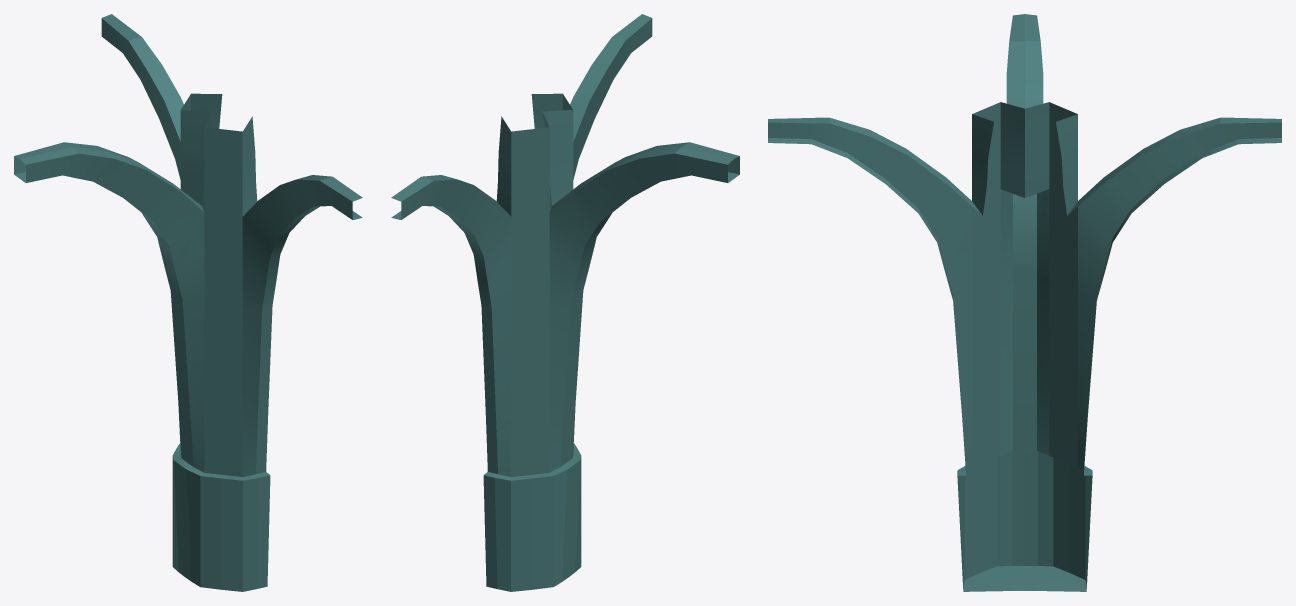
File: Arch_Tri_AgainstWall.fbx
3 views of the same model, side by side, from view 1: azimuth 30°, elevation 25°; view 2: azimuth 150°, elevation 25°; view 3: azimuth 270°, elevation 25° (orthographic). The views are drawn at different scales.
Visible parts, largest first — view 1: Arch_Tri_AgainstWall; view 2: Arch_Tri_AgainstWall; view 3: Arch_Tri_AgainstWall.
Boxes of the visible parts, x1,y1,x2,y2 form: Arch_Tri_AgainstWall: (14, 14, 362, 591); Arch_Tri_AgainstWall: (391, 14, 739, 591); Arch_Tri_AgainstWall: (768, 14, 1281, 591).
Size of the model in its own units: 200 by 404 by 400.
